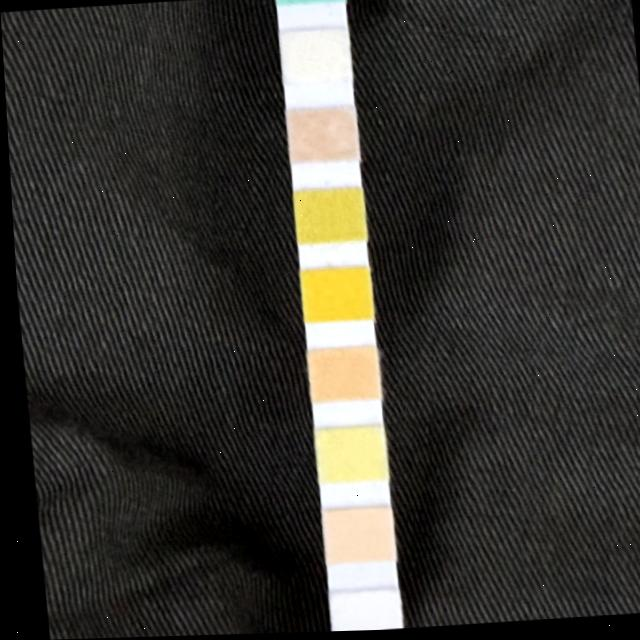Bilirubin: (277, 29, 348, 85)
Blood: (297, 269, 368, 320)
Glucose: (276, 0, 344, 5)
Ketone: (286, 108, 354, 161)
Nitrite: (323, 593, 391, 633), (322, 240, 323, 243)
Protein: (308, 429, 379, 481)
SpGravity: (290, 188, 361, 240)
Urobilinogen: (317, 510, 386, 561)
pH: (302, 348, 372, 400)
